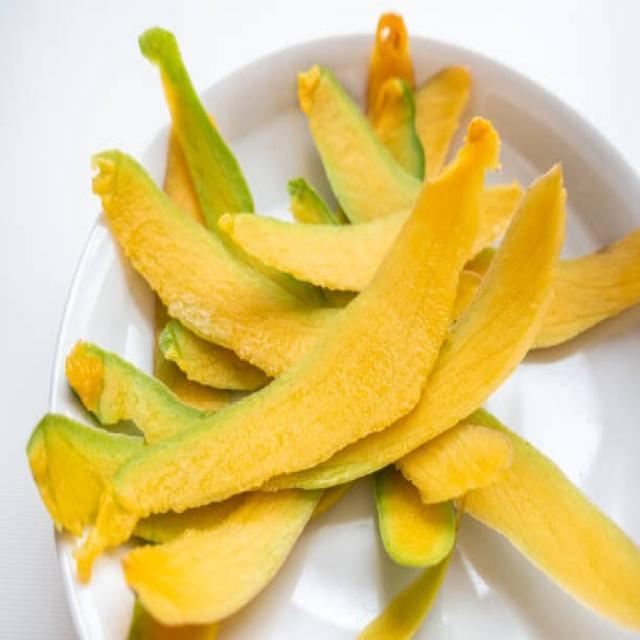organic: (118, 115, 500, 519), (450, 402, 640, 640), (217, 183, 517, 294), (122, 473, 318, 628), (469, 230, 640, 353)
